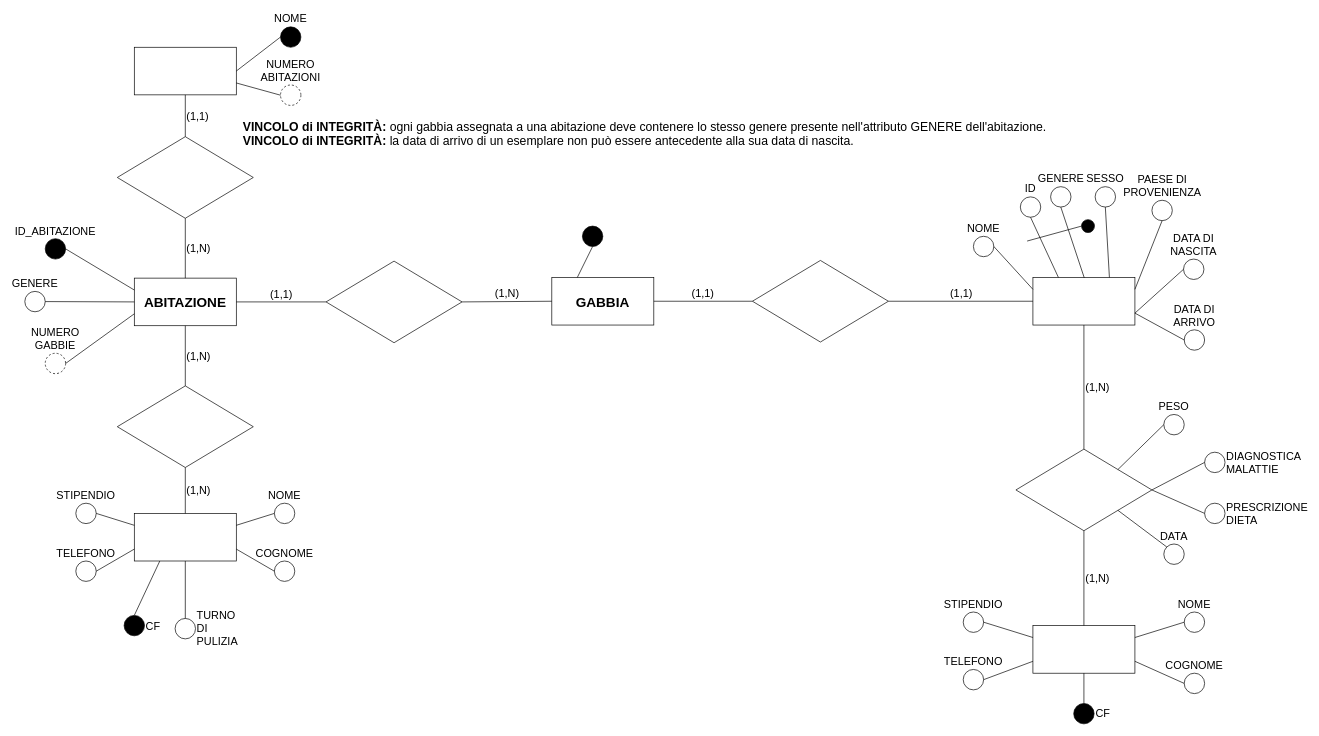
The diagram is 1319 pixels wide and 736 high, and some of its shapes have lost their labels. Here are the shapes that lost their labels. From the top down, the box of each, then its label:
(134, 47, 236, 95): AREA
(117, 136, 253, 218): APPARTIENE A
(582, 225, 603, 247): ID_GABBIA
(325, 260, 462, 343): ASSEGNATA
(752, 260, 888, 342): CONTENUTO IN
(1032, 277, 1135, 325): ESEMPLARE
(117, 385, 253, 468): PULIRE
(1015, 448, 1152, 531): VISITARE
(134, 513, 236, 561): ADDETTO PULIZIE
(1032, 625, 1135, 673): VETERINARIO
